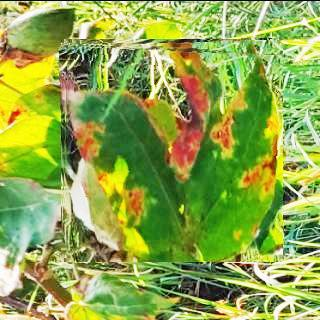blight: (60, 38, 283, 261)
